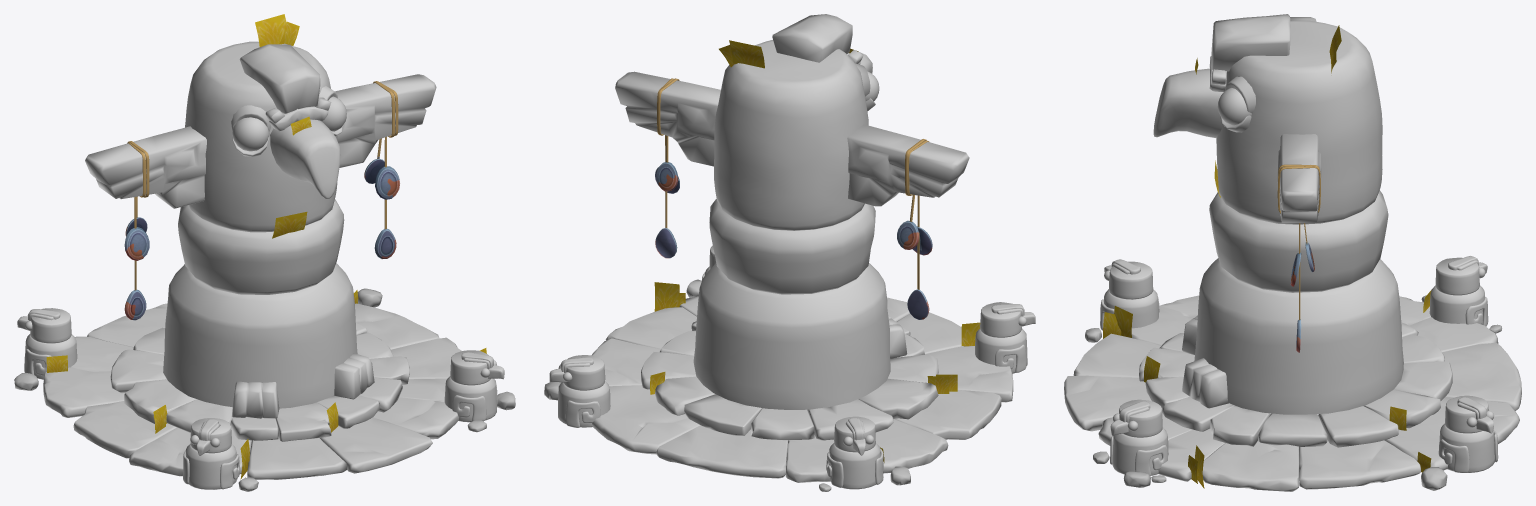
File: TotemSketchFab.fbx
3 renders of one model, left to right at view 1: azimuth 30°, elevation 25°; view 2: azimuth 150°, elevation 25°; view 3: azimuth 270°, elevation 25°, orthographic. The views are drawn at different scales.
Parts seen in each view (by area): view 1: totem_ground.004, Cylinder_001.002, Cylinder_001.004, Cylinder_001.005, totem_ground.001, Cylinder_001.003, Cylinder_001.007, Cylinder_001.011, Cylinder_001.006, Cylinder_001, Cylinder_001.009, grass03_low.002 (+3 smaller); view 2: totem_ground.004, Cylinder_001.004, Cylinder_001.002, Cylinder_001.005, totem_ground.001, Cylinder_001.003, Cylinder_001.011, Cylinder_001.012, Cylinder_001.010, Cylinder_001, Cylinder_001.007, grass03_low.002 (+2 smaller); view 3: totem_ground.004, Cylinder_001.002, Cylinder_001.004, totem_ground.001, Cylinder_001.003, Cylinder_001.010, Cylinder_001.007, Cylinder_001.009, Cylinder_001.006, Cylinder_001.005, Cylinder_001.012, Cylinder_001 (+5 smaller).
Part boxes in pixels (bbox=[...]): totem_ground.004: bbox=[43, 303, 461, 479]; Cylinder_001.002: bbox=[163, 263, 357, 408]; Cylinder_001.004: bbox=[185, 41, 337, 232]; Cylinder_001.005: bbox=[85, 74, 436, 208]; totem_ground.001: bbox=[110, 323, 409, 441]; Cylinder_001.003: bbox=[178, 199, 344, 294]; Cylinder_001.007: bbox=[239, 44, 331, 131]; Cylinder_001.011: bbox=[124, 81, 399, 320]; Cylinder_001.006: bbox=[270, 119, 340, 198]; Cylinder_001: bbox=[183, 418, 239, 489]; Cylinder_001.009: bbox=[444, 350, 504, 422]; grass03_low.002: bbox=[46, 14, 486, 479]; totem_ground.004: bbox=[591, 296, 1013, 482]; Cylinder_001.004: bbox=[714, 40, 868, 230]; Cylinder_001.002: bbox=[693, 263, 890, 409]; Cylinder_001.005: bbox=[615, 71, 969, 206]; totem_ground.001: bbox=[641, 321, 938, 440]; Cylinder_001.003: bbox=[709, 199, 875, 294]; Cylinder_001.011: bbox=[655, 78, 932, 319]; Cylinder_001.012: bbox=[826, 416, 883, 489]; Cylinder_001.010: bbox=[549, 355, 610, 427]; Cylinder_001: bbox=[975, 302, 1035, 373]; Cylinder_001.007: bbox=[772, 14, 863, 64]; grass03_low.002: bbox=[650, 40, 980, 462]; totem_ground.004: bbox=[1064, 295, 1521, 491]; Cylinder_001.002: bbox=[1194, 258, 1403, 414]; Cylinder_001.004: bbox=[1216, 20, 1382, 224]; totem_ground.001: bbox=[1139, 322, 1452, 447]; Cylinder_001.003: bbox=[1209, 190, 1388, 292]; Cylinder_001.010: bbox=[1438, 395, 1498, 472]; Cylinder_001.007: bbox=[1209, 14, 1290, 91]; Cylinder_001.009: bbox=[1110, 399, 1168, 476]; Cylinder_001.006: bbox=[1153, 68, 1223, 138]; Cylinder_001.005: bbox=[1277, 17, 1321, 223]; Cylinder_001.012: bbox=[1429, 256, 1488, 326]; Cylinder_001: bbox=[1100, 259, 1159, 330].
Bounding box in the file's own units: 5.79 × 5.28 × 5.81.
